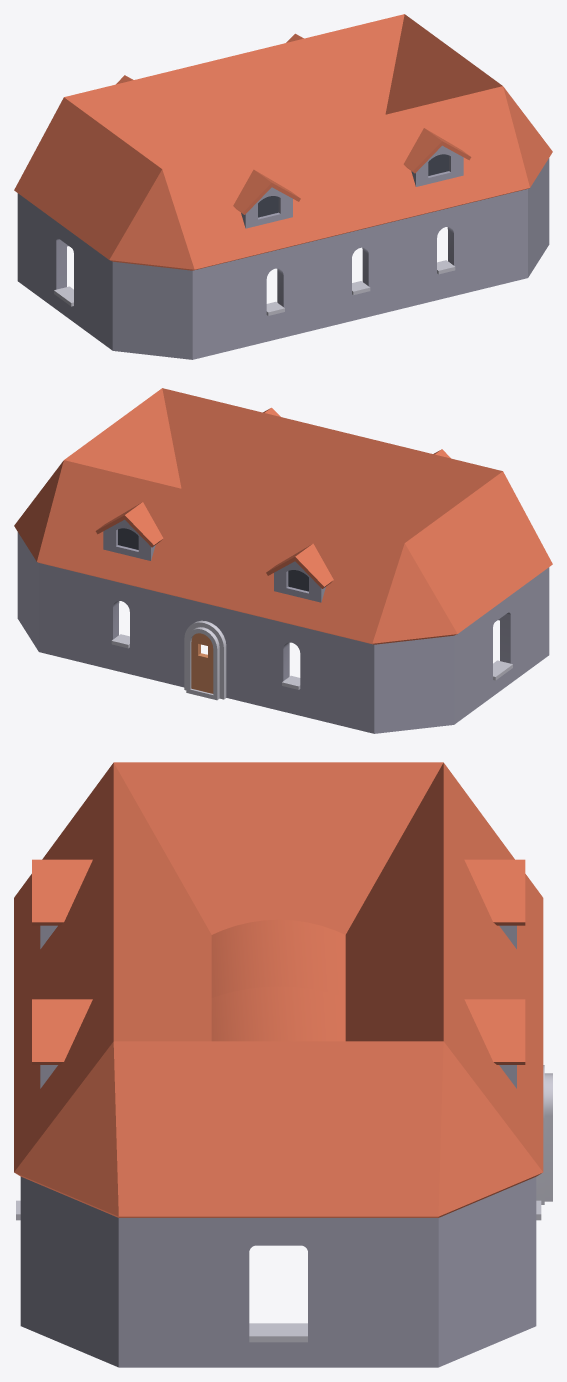
File: House01.obj
The picture shows the model from 3 angles, top to bottom: view 1: azimuth 30°, elevation 25°; view 2: azimuth 150°, elevation 25°; view 3: azimuth 270°, elevation 25°; orthographic projection. The views are drawn at different scales.
Parts seen in each view (by area): view 1: wall_cornerDiagonal_69, roof_cornerDiagonal_81, roof_straight_85, roof_straight_87, roof_straight_89, roof_straight_84, roof_straight_88, wall_windowRound_77, wall_windowRound_75, wall_windowRound_76, roof_straight_90, roof_straight_86 (+9 smaller); view 2: wall_cornerDiagonal_68, roof_cornerDiagonal_82, roof_straight_88, roof_straight_86, roof_straight_85, roof_straight_87, roof_straight_89, roof_straight_84, wall_windowRound_74, wall_windowRound_73, roof_straight_90, roof_cornerDiagonal_79 (+10 smaller); view 3: roof_straight_91, roof_straight_90, wall_cornerDiagonal_67, wall_cornerDiagonal_70, roof_cornerDiagonal_79, roof_cornerDiagonal_80, wall_windowSquare_71, roof_straight_85, roof_straight_88, roof_straight_89, roof_straight_84, roof_straight_87 (+10 smaller).
Part boxes in pixels (left/top/right/bottom): wall_cornerDiagonal_69: left=89, top=246, right=232, bottom=359; roof_cornerDiagonal_81: left=89, top=154, right=228, bottom=270; roof_straight_85: left=285, top=116, right=409, bottom=240; roof_straight_87: left=282, top=23, right=388, bottom=135; roof_straight_89: left=101, top=65, right=222, bottom=168; roof_straight_84: left=199, top=137, right=324, bottom=261; roof_straight_88: left=197, top=44, right=305, bottom=154; wall_windowRound_77: left=317, top=219, right=402, bottom=329; wall_windowRound_75: left=232, top=240, right=317, bottom=349; wall_windowRound_76: left=403, top=198, right=487, bottom=308; roof_straight_90: left=34, top=113, right=140, bottom=244; roof_straight_86: left=380, top=95, right=495, bottom=218; wall_cornerDiagonal_68: left=334, top=620, right=477, bottom=733; roof_cornerDiagonal_82: left=338, top=528, right=477, bottom=644; roof_straight_88: left=157, top=492, right=281, bottom=614; roof_straight_86: left=178, top=397, right=295, bottom=509; roof_straight_85: left=261, top=418, right=380, bottom=530; roof_straight_87: left=71, top=469, right=196, bottom=594; roof_straight_89: left=242, top=513, right=367, bottom=635; roof_straight_84: left=354, top=441, right=465, bottom=542; wall_windowRound_74: left=249, top=614, right=334, bottom=723; wall_windowRound_73: left=79, top=572, right=163, bottom=682; roof_straight_90: left=426, top=487, right=532, bottom=618; roof_cornerDiagonal_79: left=14, top=444, right=100, bottom=570; roof_straight_91: left=186, top=1041, right=371, bottom=1217; roof_straight_90: left=186, top=762, right=371, bottom=934; wall_cornerDiagonal_67: left=361, top=1177, right=536, bottom=1367; wall_cornerDiagonal_70: left=20, top=1177, right=195, bottom=1367; roof_cornerDiagonal_79: left=371, top=1011, right=543, bottom=1217; roof_cornerDiagonal_80: left=14, top=1011, right=185, bottom=1217; wall_windowSquare_71: left=196, top=1218, right=361, bottom=1367; roof_straight_85: left=14, top=863, right=211, bottom=1064; roof_straight_88: left=345, top=863, right=543, bottom=1064; roof_straight_89: left=345, top=793, right=543, bottom=1001; roof_straight_84: left=14, top=793, right=211, bottom=1003; roof_straight_87: left=362, top=932, right=543, bottom=1143.
Size of the model in its own units: 5.21 by 1.92 by 3.27.
